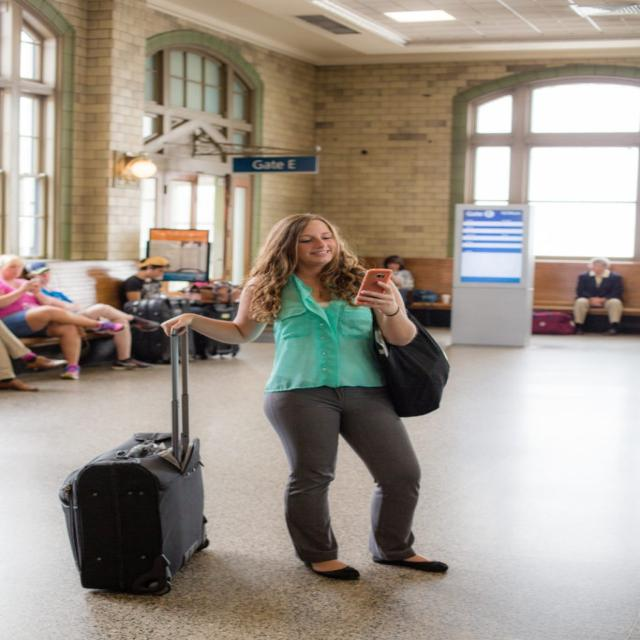body: (156, 204, 466, 586), (0, 253, 128, 381), (22, 262, 163, 371), (0, 315, 70, 398), (569, 256, 629, 335), (118, 256, 172, 302), (382, 254, 415, 306)
